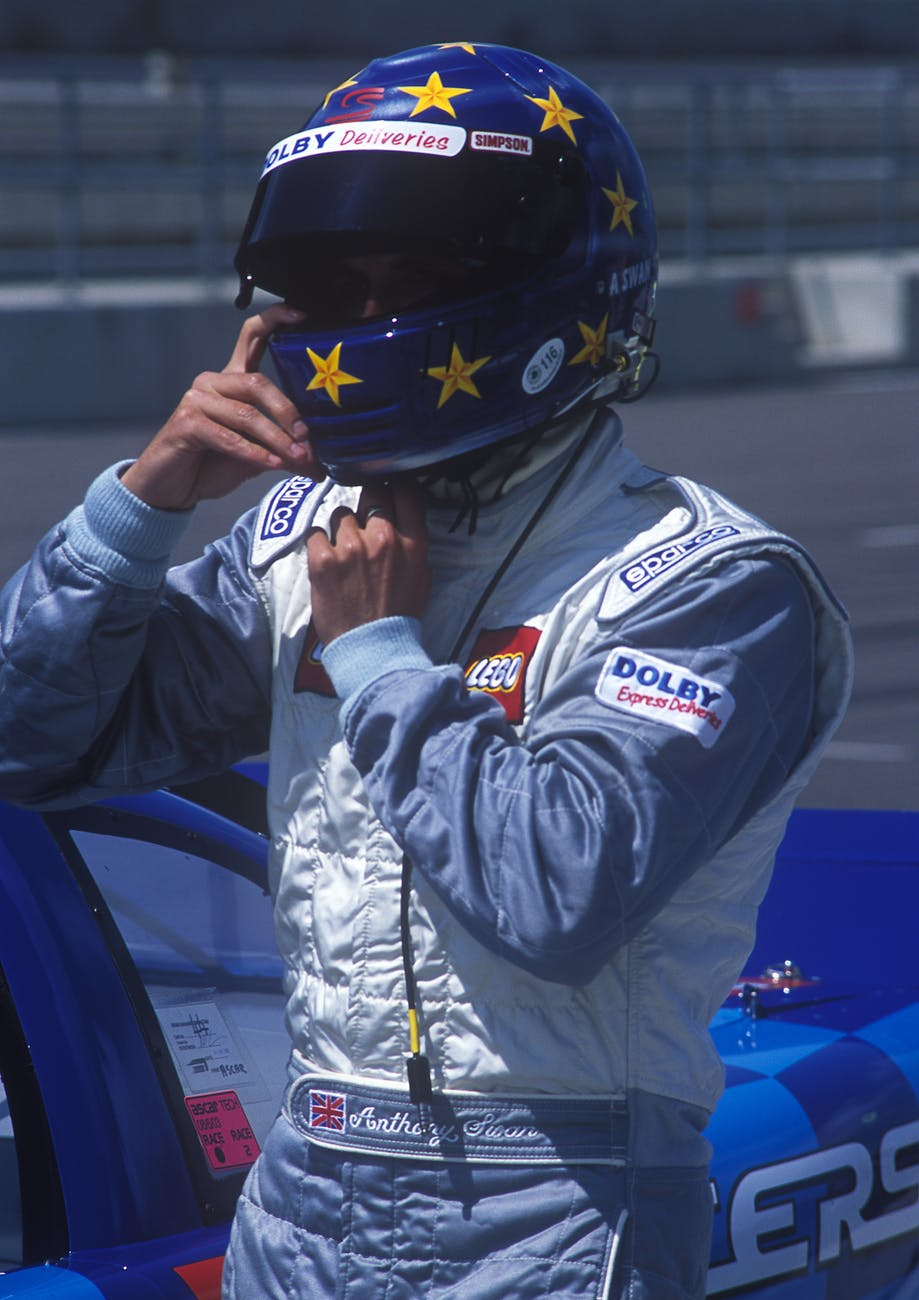helmet: (238, 49, 662, 457)
